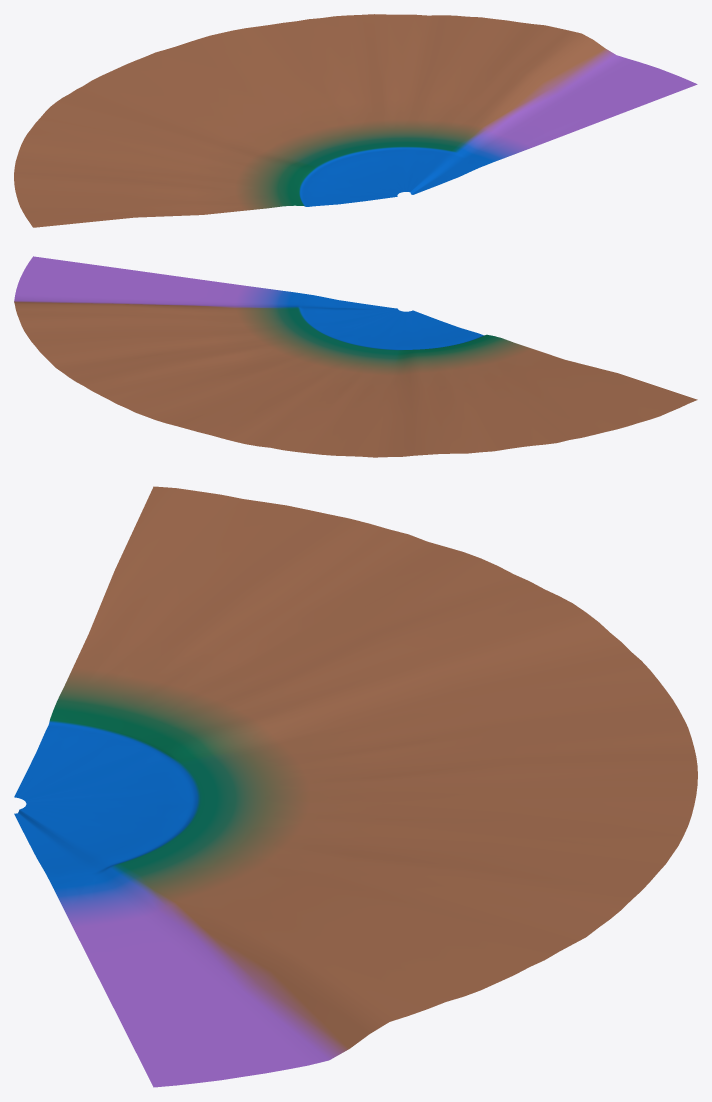
File: corrow_far.glb
3 views of the same model, one above another, from view 1: azimuth 30°, elevation 25°; view 2: azimuth 150°, elevation 25°; view 3: azimuth 270°, elevation 25° (orthographic). The views are drawn at different scales.
Parts seen in each view (by area): view 1: corrow_far; view 2: corrow_far; view 3: corrow_far.
Part boxes in pixels (x1,y1,x2,y2): corrow_far: (14, 14, 697, 227); corrow_far: (14, 256, 697, 457); corrow_far: (14, 486, 697, 1087).
Size of what is drawn, in the model's own units: 2152 by 65.97 by 1095.
